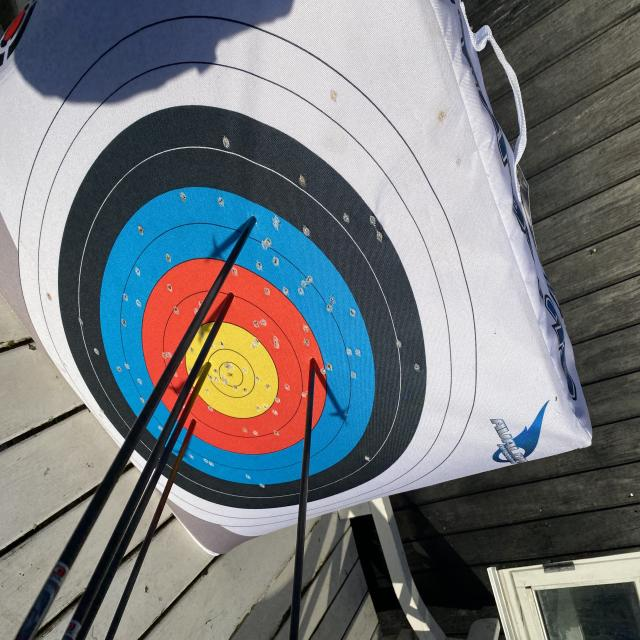Arrow_Blue: (238, 199, 269, 242)
Arrow_Red: (222, 282, 248, 320), (297, 345, 322, 379), (181, 408, 203, 442)
Arrow_Yellow: (200, 353, 216, 384)
